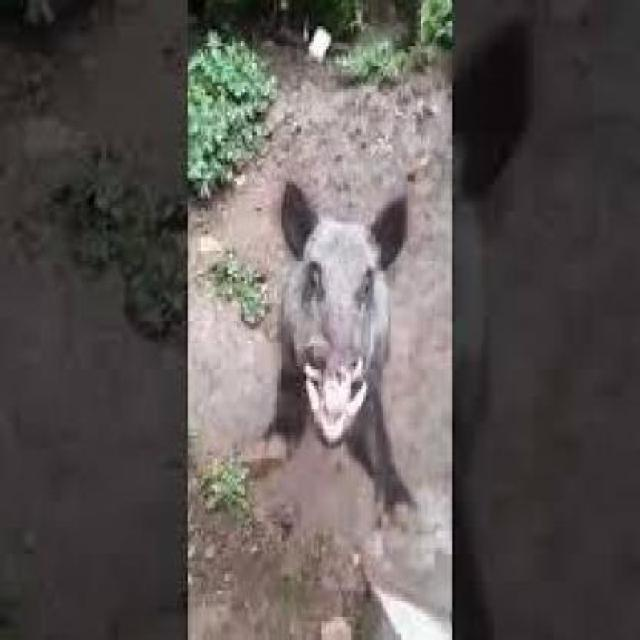wildboar: (245, 171, 422, 538)
